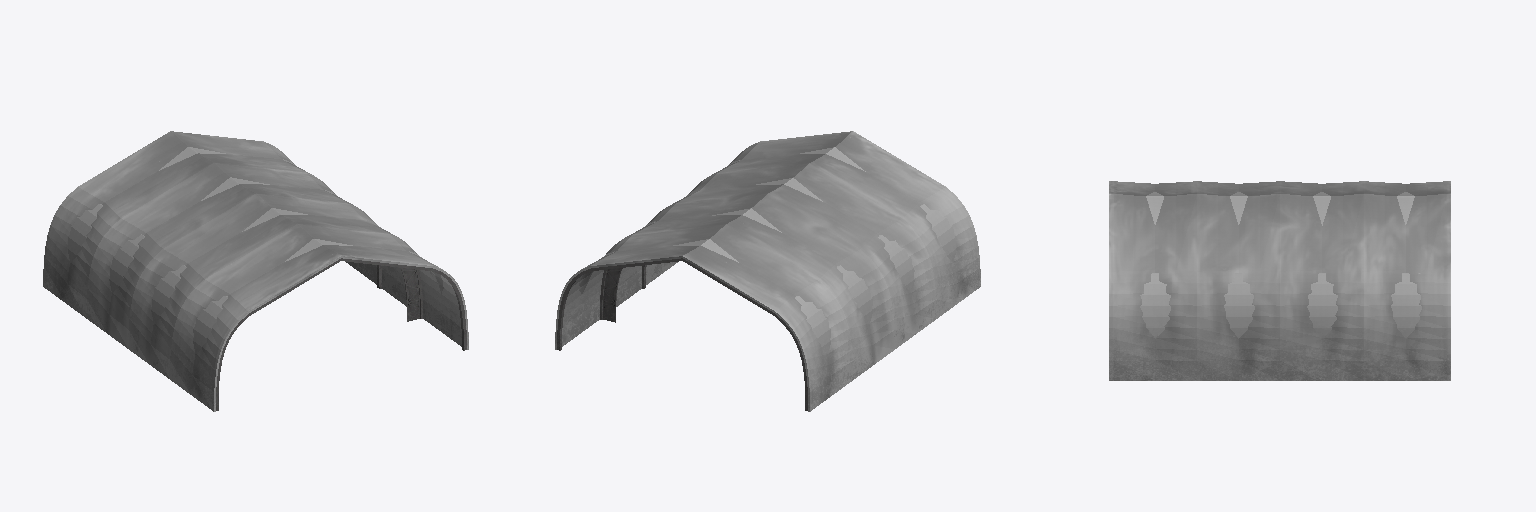
3 renders of one model, left to right at view 1: azimuth 30°, elevation 25°; view 2: azimuth 150°, elevation 25°; view 3: azimuth 270°, elevation 25°, orthographic.
Visible parts, largest first — view 1: obj1; view 2: obj1; view 3: obj1.
Part boxes in pixels (bbox=[...]): obj1: bbox=[43, 131, 468, 411]; obj1: bbox=[555, 131, 980, 411]; obj1: bbox=[1109, 181, 1450, 380].
Bounding box in the file's own units: 21.86 × 10.24 × 25.37.
1 materials, 1 textured.